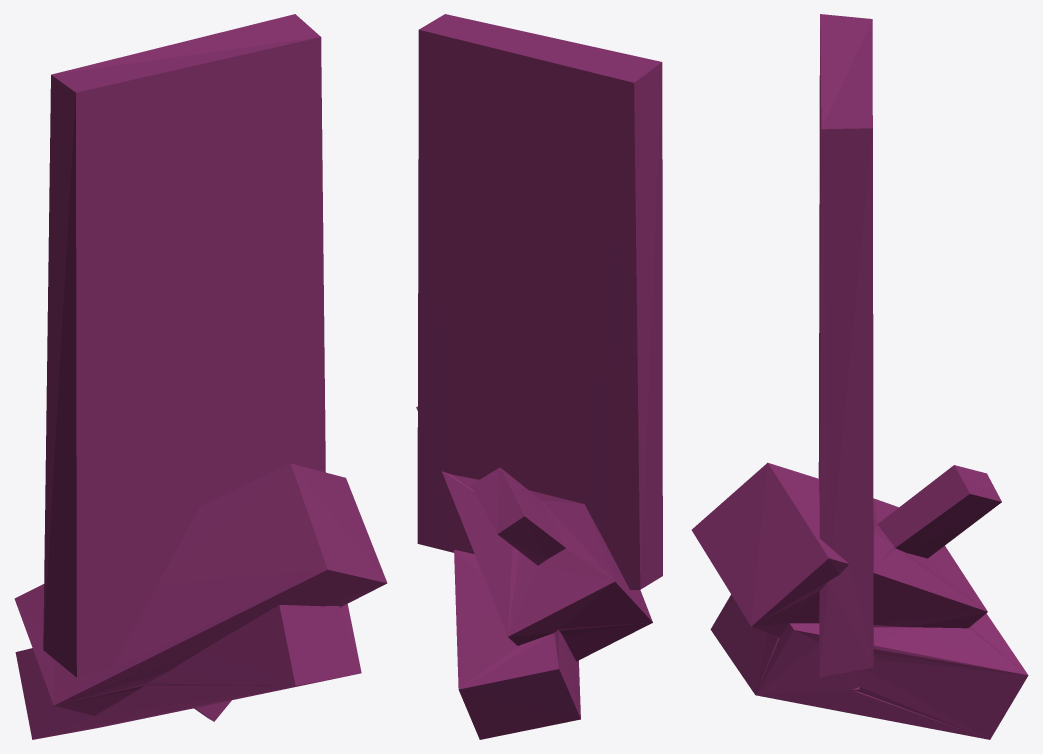
3 views of the same model, side by side, from view 1: azimuth 30°, elevation 25°; view 2: azimuth 150°, elevation 25°; view 3: azimuth 270°, elevation 25° (orthographic). The views are drawn at different scales.
Parts seen in each view (by area): view 1: 585_Cube.2354; view 2: 585_Cube.2354; view 3: 585_Cube.2354.
Boxes of the visible parts, left/top/right/bottom form: 585_Cube.2354: left=14, top=14, right=387, bottom=739; 585_Cube.2354: left=416, top=14, right=662, bottom=739; 585_Cube.2354: left=691, top=14, right=1028, bottom=739.
Bounding box in the file's own units: 5.99 × 14.91 × 6.76.
